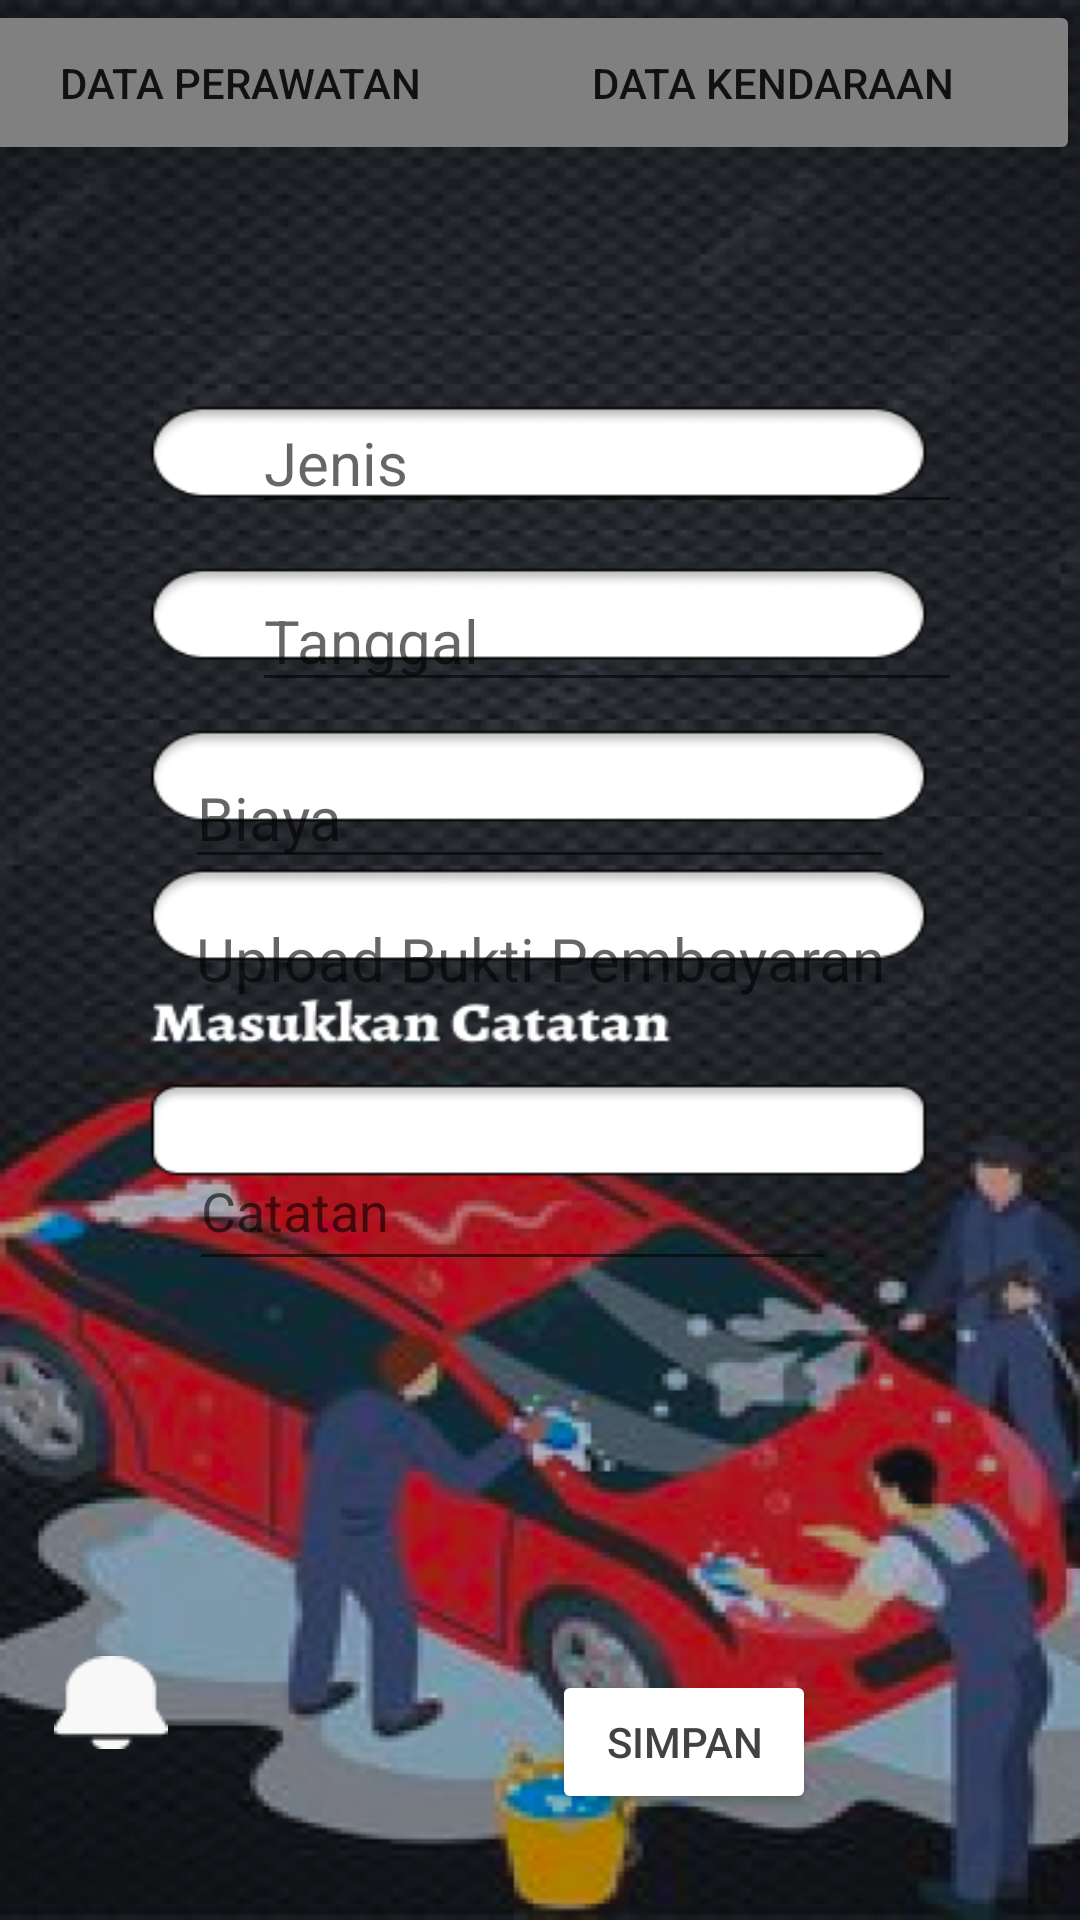

Icons on this 1080 × 1920 Android screen, each with the point to tap as point (x, y):
notification: point (111, 1702)
